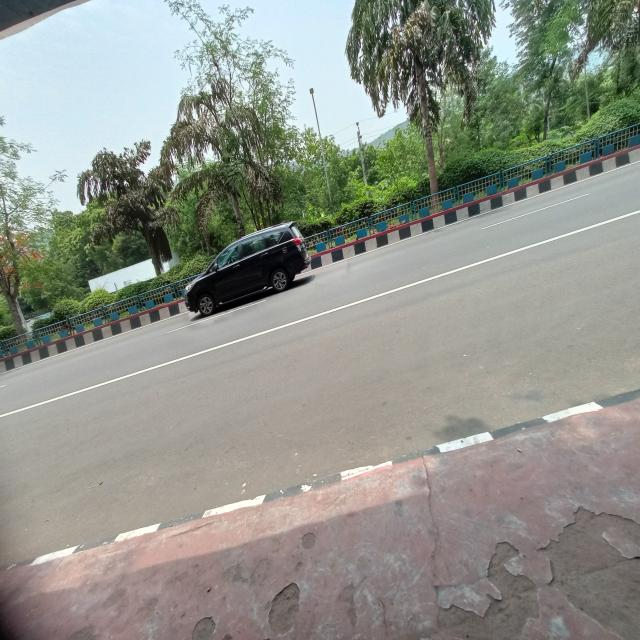car: (168, 218, 324, 324)
